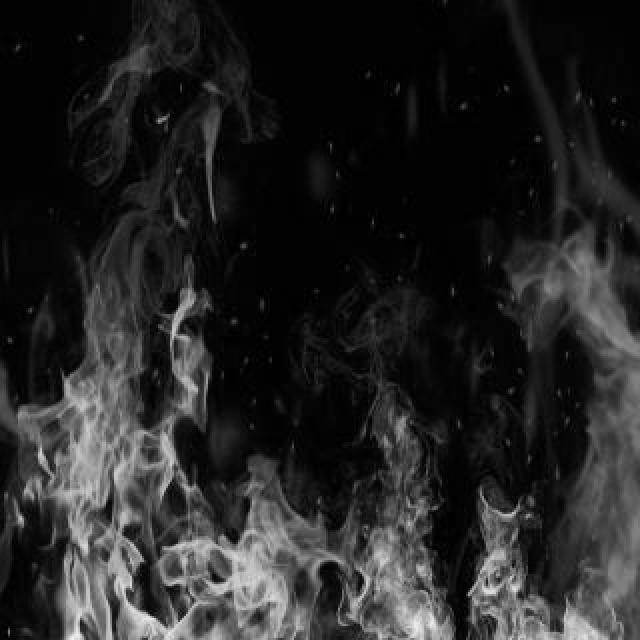Fire: (2, 206, 640, 638)
Smoke: (487, 2, 640, 269), (78, 80, 197, 322), (289, 268, 424, 444), (464, 392, 528, 510)
